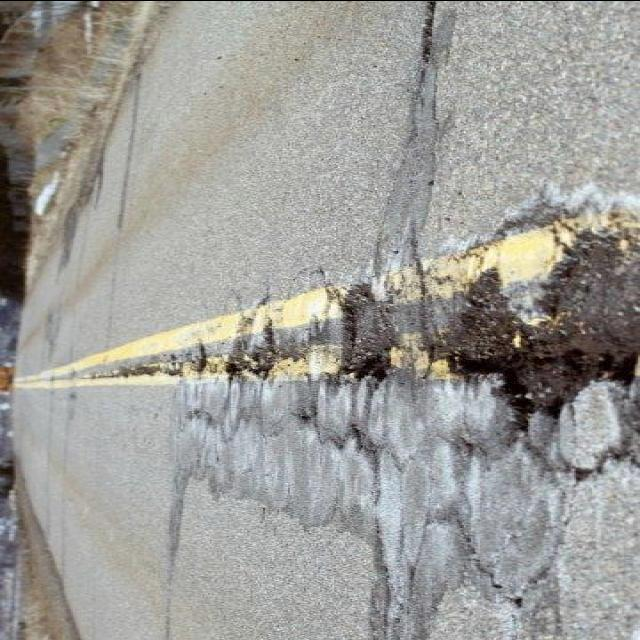lubang: (428, 225, 638, 427), (316, 289, 404, 383), (220, 325, 278, 377)
